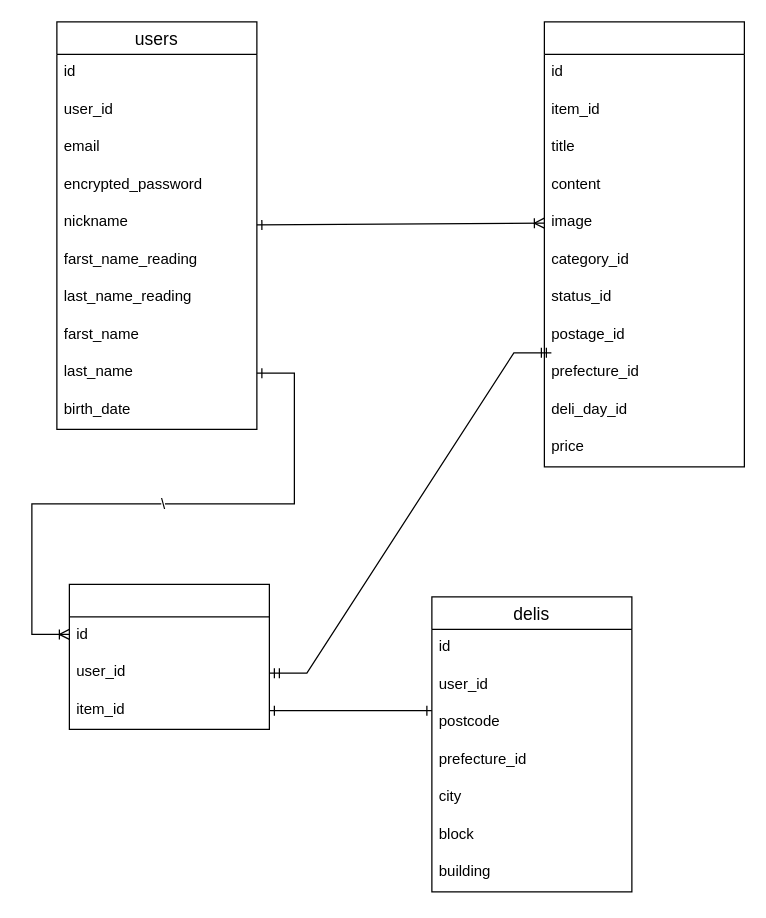
This 766x918 diagram has some shape labels left out. The box of each missing label's shape, as (x1, y1, x2, y2) in pixels:
items: (543, 21, 744, 467)
pays: (68, 583, 269, 729)
